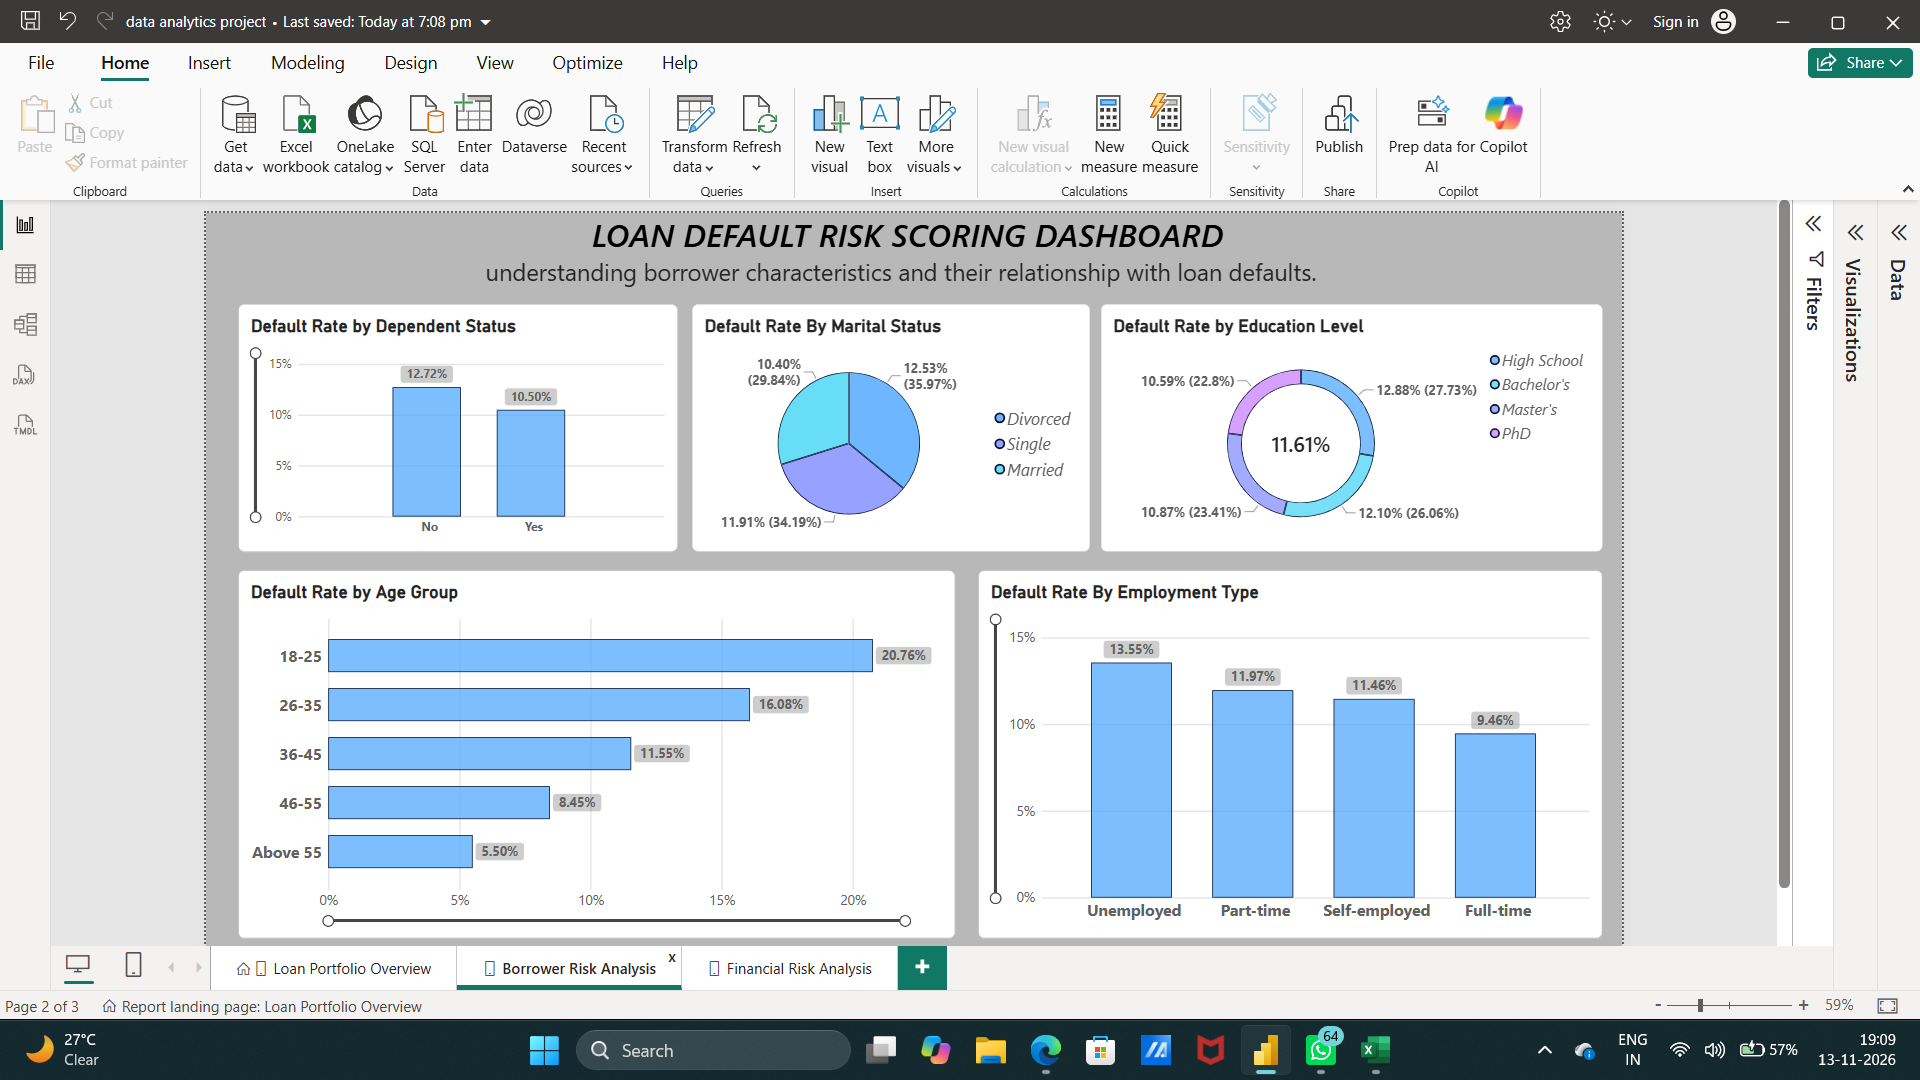

Layout of this report page (visuals, bound fields, positions):
{"tool":"powerbi","page":{"name":"Borrower Risk Analysis","canvas":[1920,1080],"ordinal":1},"visuals":[{"type":"textbox","box":[10.2,0,1883.1,57.6],"z":0},{"type":"textbox","box":[67.9,343,1852.6,542.9],"z":1000},{"type":"clusteredColumnChart","title":"Default Rate By Employment Type","fields":{"Category":["Loan_Default_Analysis_Ready xlx.employment_type"],"Y":["Loan_Default_Analysis_Ready xlx.Default Rate"]},"box":[1049.2,502.6,845.8,498.3],"z":7000},{"type":"donutChart","title":"Default Rate by Education Level","fields":{"Category":["Loan_Default_Analysis_Ready xlx.education"],"Y":["Loan_Default_Analysis_Ready xlx.Default Rate"]},"box":[1213.6,123.7,679.7,335.6],"z":7002},{"type":"barChart","fields":{"Category":["Loan_Default_Analysis_Ready xlx.Age Group"],"Y":["Loan_Default_Analysis_Ready xlx.Default Rate"]},"box":[44,502.6,971.2,498.3],"z":7003},{"type":"pieChart","title":"Default Rate By Marital Status","fields":{"Category":["Loan_Default_Analysis_Ready xlx.marital_status"],"Y":["Loan_Default_Analysis_Ready xlx.Default Rate"]},"box":[659.3,123.7,539,335.6],"z":7004},{"type":"columnChart","title":"Default Rate by Dependent Status","fields":{"Category":["Loan_Default_Analysis_Ready xlx.has_dependents"],"Y":["Loan_Default_Analysis_Ready xlx.Default Rate"]},"box":[44.1,123.7,594.9,335.6],"z":7005},{"type":"textbox","box":[67.8,57.6,1749.2,49.2],"z":7006}]}

Visuals, with their boxes on the page's 1920x1080 design canvas (x1, y1, x2, y2). These are canvas units, not pixel positions in the 1920x1080 screenshot, which may show the page scaled, cropped or inside an application window:
textbox: l=10, t=0, r=1893, b=58
textbox: l=68, t=343, r=1920, b=886
"Default Rate By Employment Type" clusteredColumnChart: l=1049, t=503, r=1895, b=1001
"Default Rate by Education Level" donutChart: l=1214, t=124, r=1893, b=459
barChart - Loan_Default_Analysis_Ready xlx.Age Group x Loan_Default_Analysis_Ready xlx.Default Rate: l=44, t=503, r=1015, b=1001
"Default Rate By Marital Status" pieChart: l=659, t=124, r=1198, b=459
"Default Rate by Dependent Status" columnChart: l=44, t=124, r=639, b=459
textbox: l=68, t=58, r=1817, b=107
